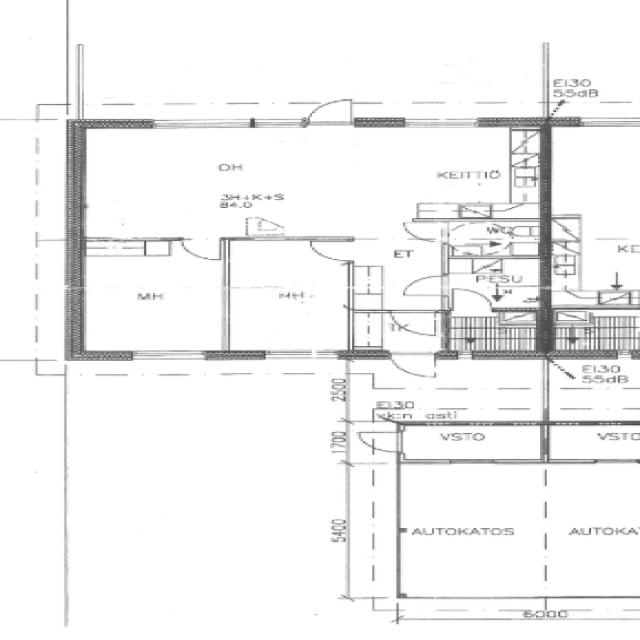door: (383, 349, 442, 382), (301, 96, 358, 130), (383, 309, 449, 338), (352, 428, 409, 455), (240, 214, 291, 243), (305, 238, 357, 263), (446, 288, 494, 314), (399, 273, 450, 297), (178, 236, 225, 262), (395, 219, 446, 242)
window: (251, 346, 347, 363), (150, 117, 258, 132), (393, 116, 486, 132), (124, 347, 215, 363), (570, 115, 640, 129)
zone: (67, 126, 556, 228), (398, 459, 547, 605), (546, 120, 640, 317), (77, 237, 226, 356), (226, 237, 351, 356), (358, 354, 537, 423), (444, 219, 546, 314), (397, 422, 547, 462), (543, 304, 640, 353), (447, 308, 546, 355), (444, 220, 545, 260), (543, 422, 640, 462)
